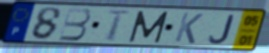8: (31, 6, 63, 41)
B: (57, 7, 92, 42)
J: (207, 14, 236, 45)
K: (173, 11, 206, 45)
M: (127, 10, 171, 44)
T: (105, 9, 132, 43)
